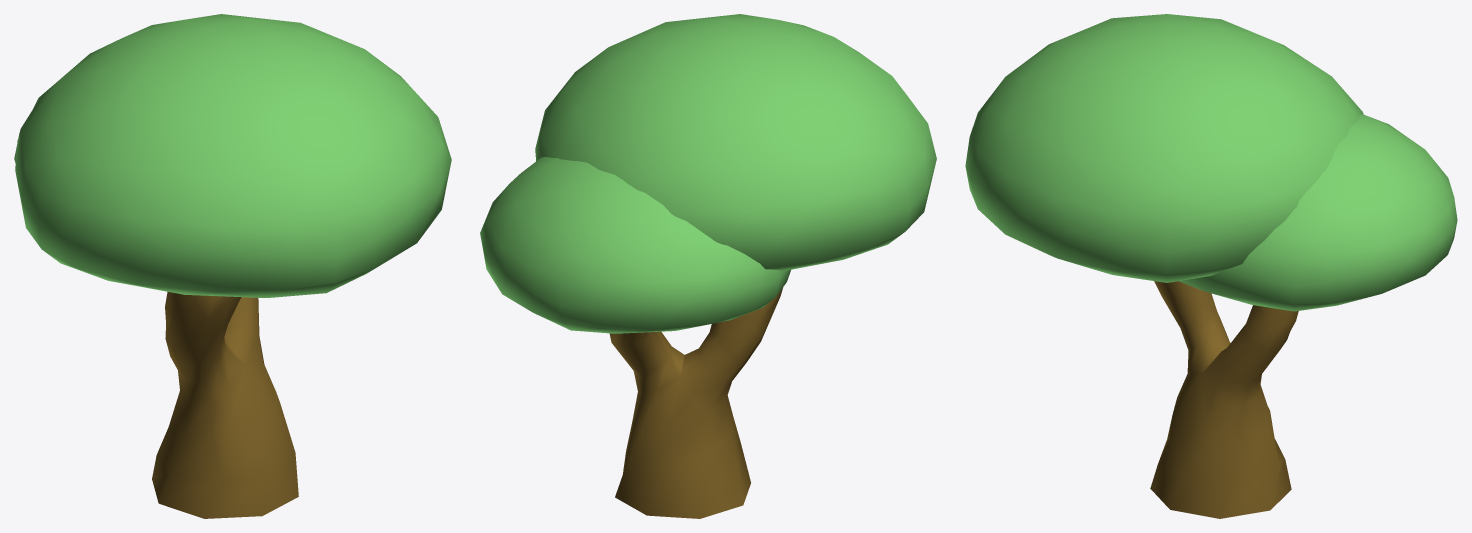
The model's file is tree5.fbx.
3 views of the same model, side by side, from view 1: azimuth 30°, elevation 25°; view 2: azimuth 150°, elevation 25°; view 3: azimuth 270°, elevation 25° (orthographic). The views are drawn at different scales.
Parts seen in each view (by area): view 1: treefoliage5, Tree5; view 2: treefoliage5, Tree5; view 3: treefoliage5, Tree5.
Boxes of the visible parts, left/top/right/bottom form: treefoliage5: left=14, top=14, right=451, bottom=297; Tree5: left=152, top=292, right=298, bottom=518; treefoliage5: left=480, top=14, right=936, bottom=333; Tree5: left=609, top=288, right=782, bottom=518; treefoliage5: left=965, top=14, right=1457, bottom=311; Tree5: left=1150, top=281, right=1298, bottom=518.
Size of what is drawn, in the model's own units: 600 by 707 by 718.
